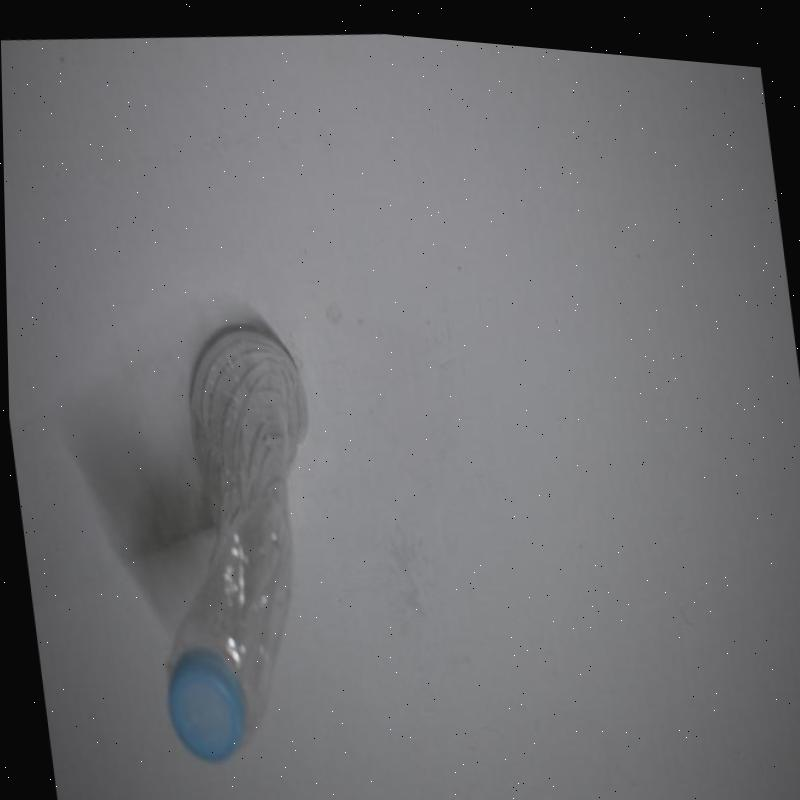botella: (116, 309, 346, 775)
